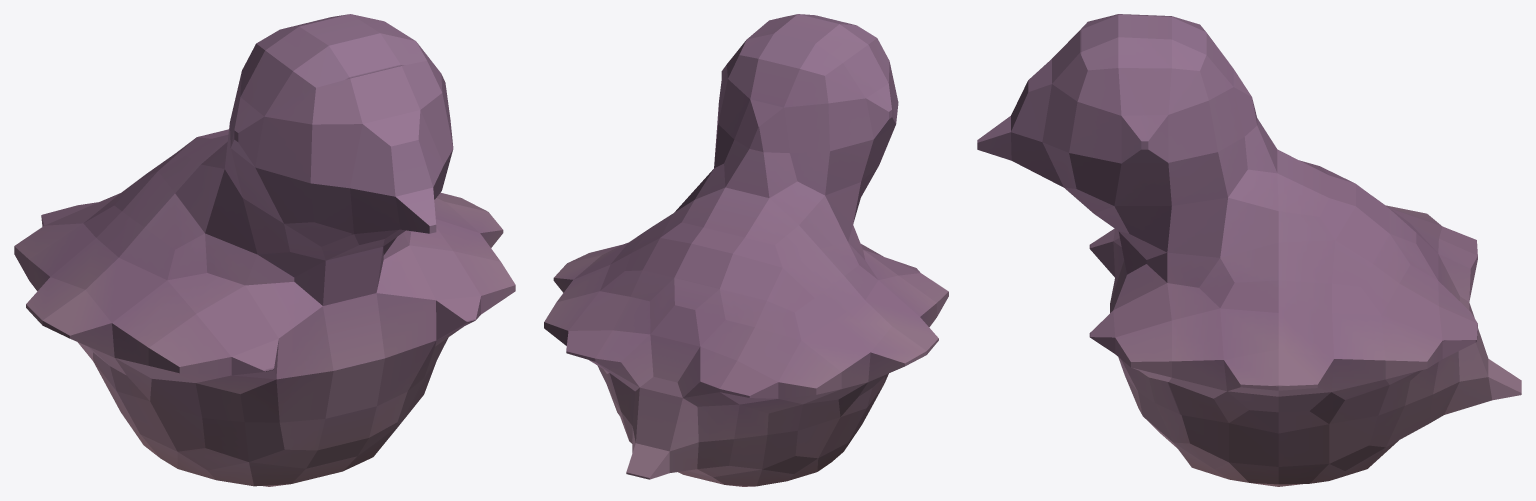
File: griffin.glb
3 views of the same model, side by side, from view 1: azimuth 30°, elevation 25°; view 2: azimuth 150°, elevation 25°; view 3: azimuth 270°, elevation 25° (orthographic). The views are drawn at different scales.
Visible parts, largest first — view 1: geometry_0; view 2: geometry_0; view 3: geometry_0.
Part boxes in pixels (bbox=[...]): geometry_0: bbox=[14, 14, 515, 486]; geometry_0: bbox=[544, 14, 948, 486]; geometry_0: bbox=[977, 14, 1521, 486].
Bounding box in the file's own units: 0.8828 × 0.9358 × 1.04.
1 material, 1 textured.
